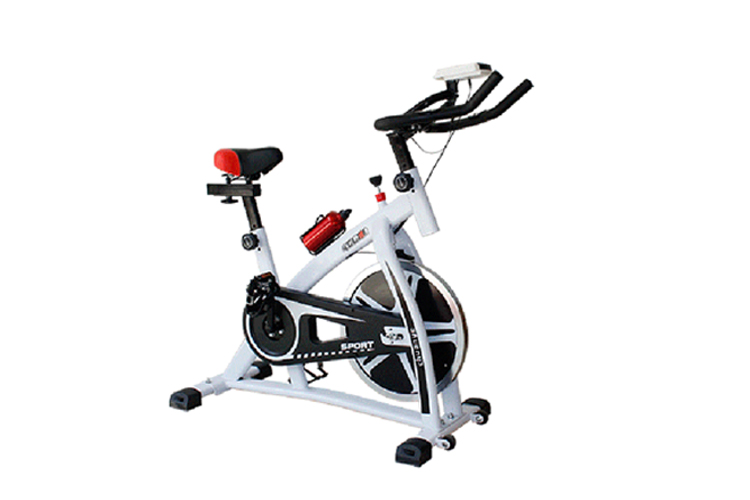gym_bike: (154, 69, 533, 472)
